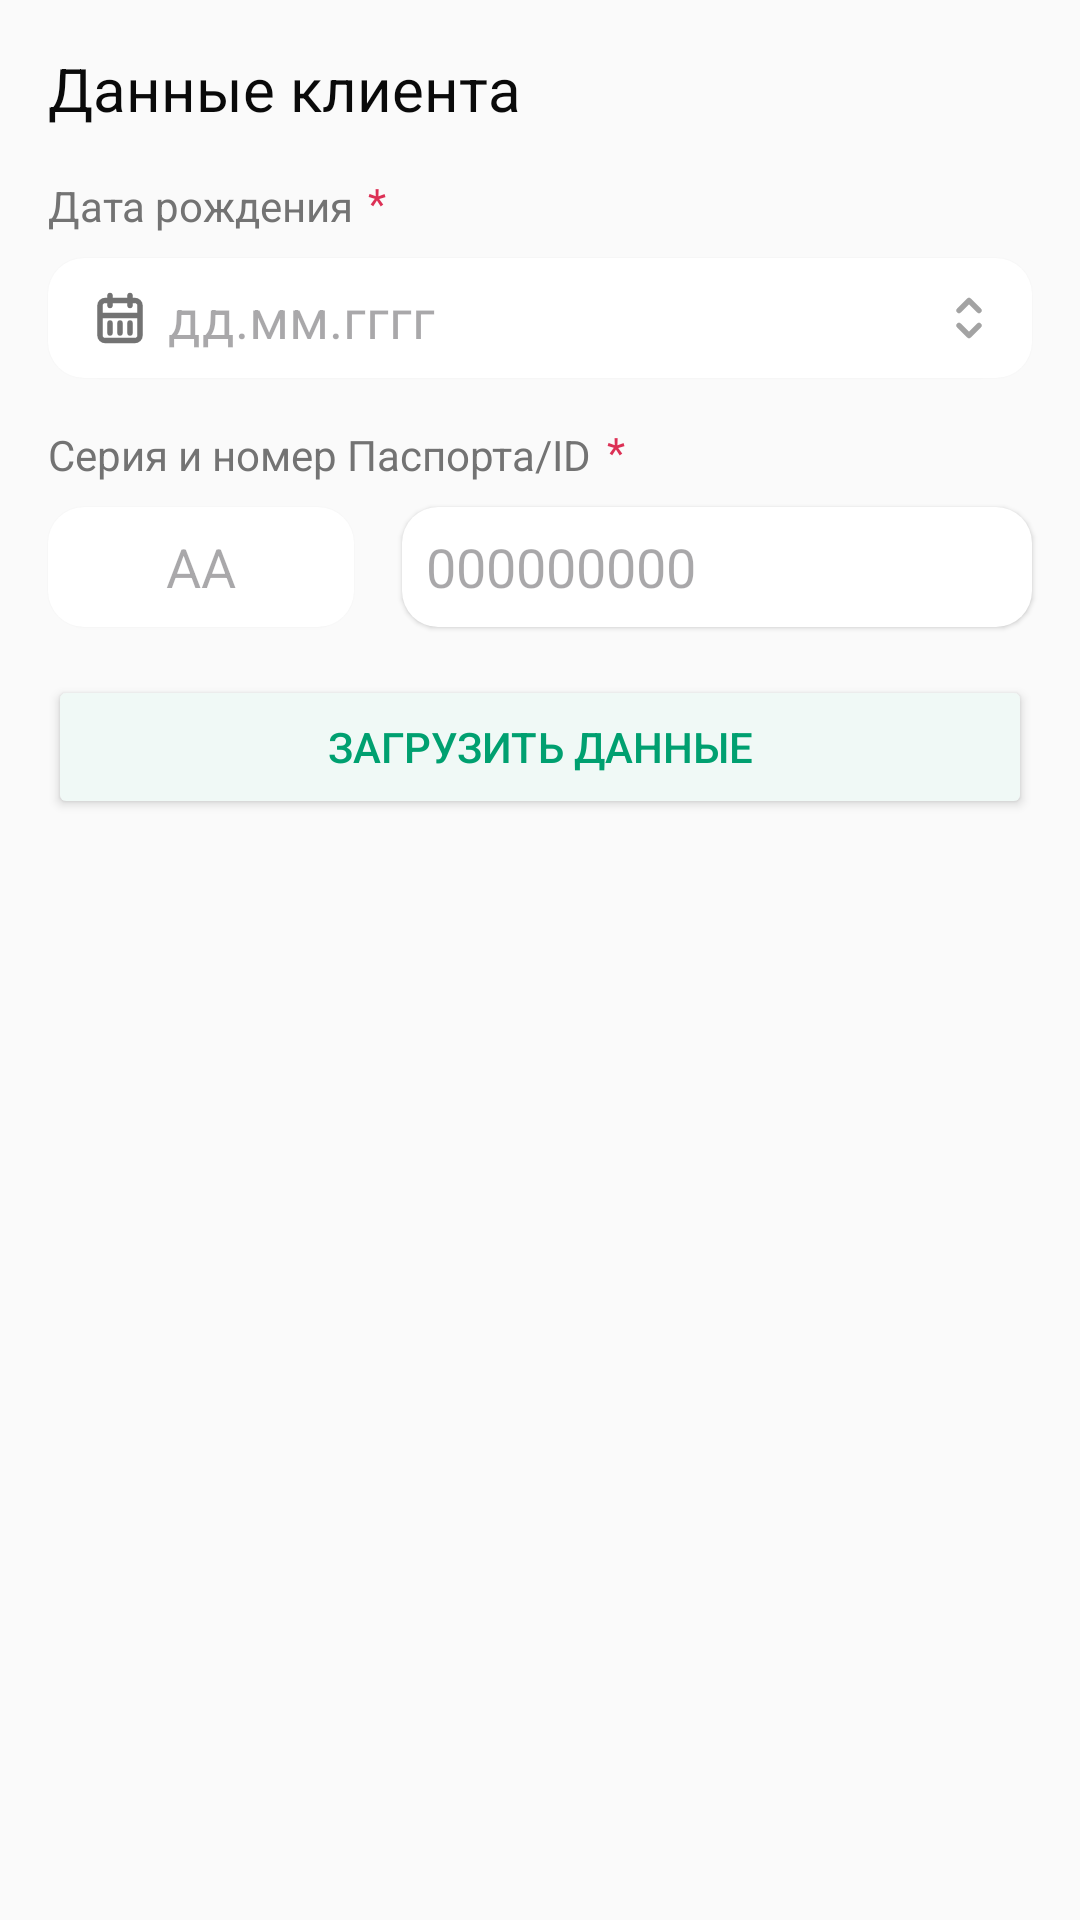

Named icons in this screenshot (1080x1920) and their centers, (x,y):
calendar: (120,318)
